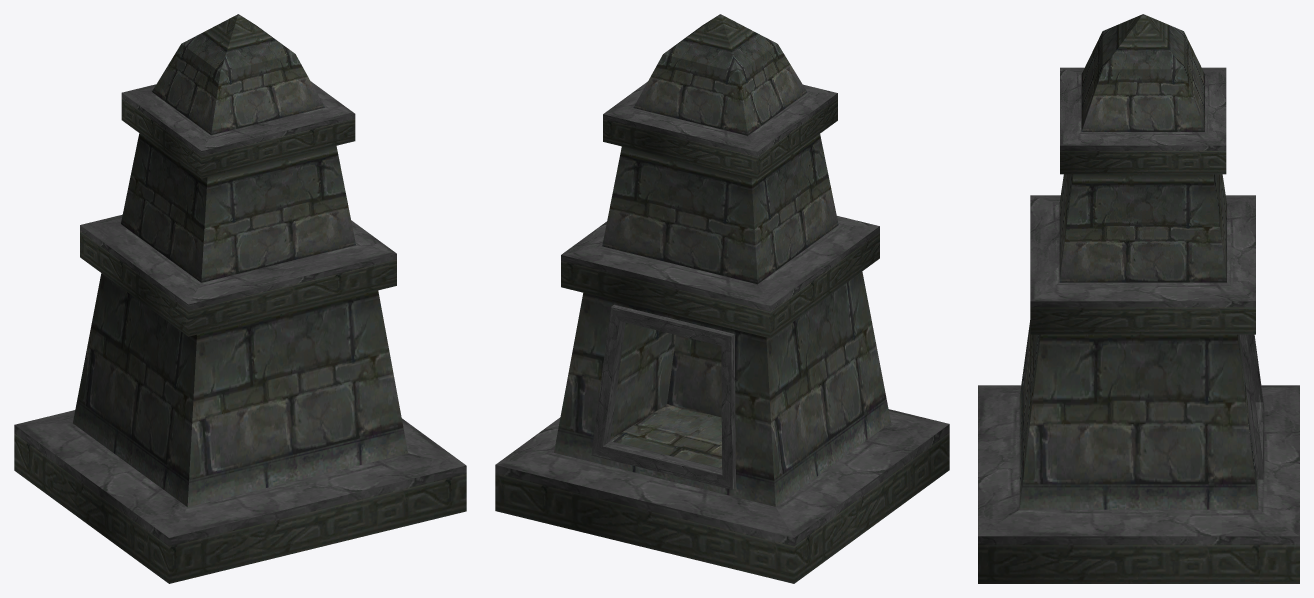
Rendered from environment_Building_tower_001_a.FBX.
The picture shows the model from 3 angles, left to right: view 1: azimuth 30°, elevation 25°; view 2: azimuth 150°, elevation 25°; view 3: azimuth 270°, elevation 25°; orthographic projection. The views are drawn at different scales.
Visible parts, largest first — view 1: environment_Building_tower_001_a; view 2: environment_Building_tower_001_a; view 3: environment_Building_tower_001_a.
Part boxes in pixels (left/top/right/bottom): environment_Building_tower_001_a: left=14, top=14, right=466, bottom=583; environment_Building_tower_001_a: left=495, top=14, right=949, bottom=583; environment_Building_tower_001_a: left=978, top=14, right=1299, bottom=583.
Size of the model in its own units: 399 by 610 by 360.
